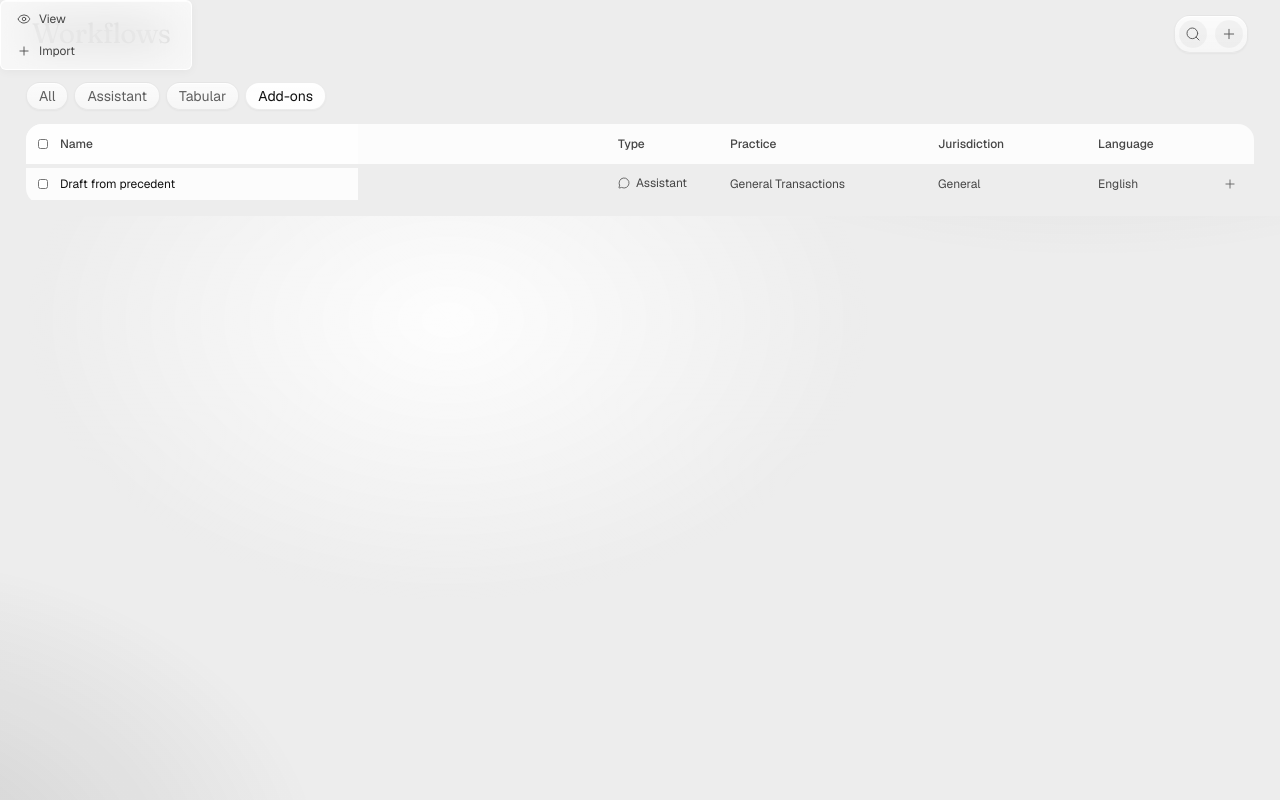
WorkflowList pack toolbar › offers View and Import from an add-on row's right-click menu
Expected: the menu item "View" is shown, [17,11,66,27]
Click the menu item "Import": [46, 51] box [17,43,75,59]
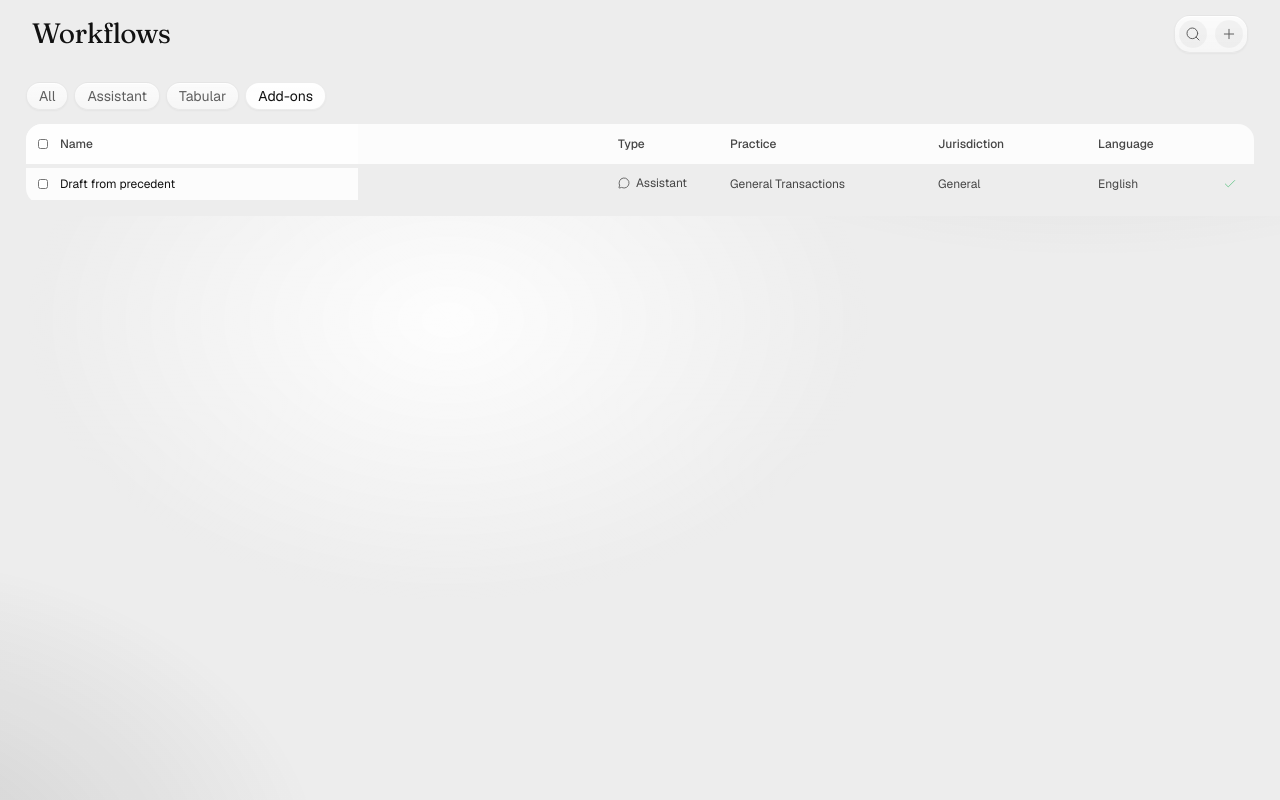
Expected: the button named "Imported" is shown, [1218,172,1242,196]
